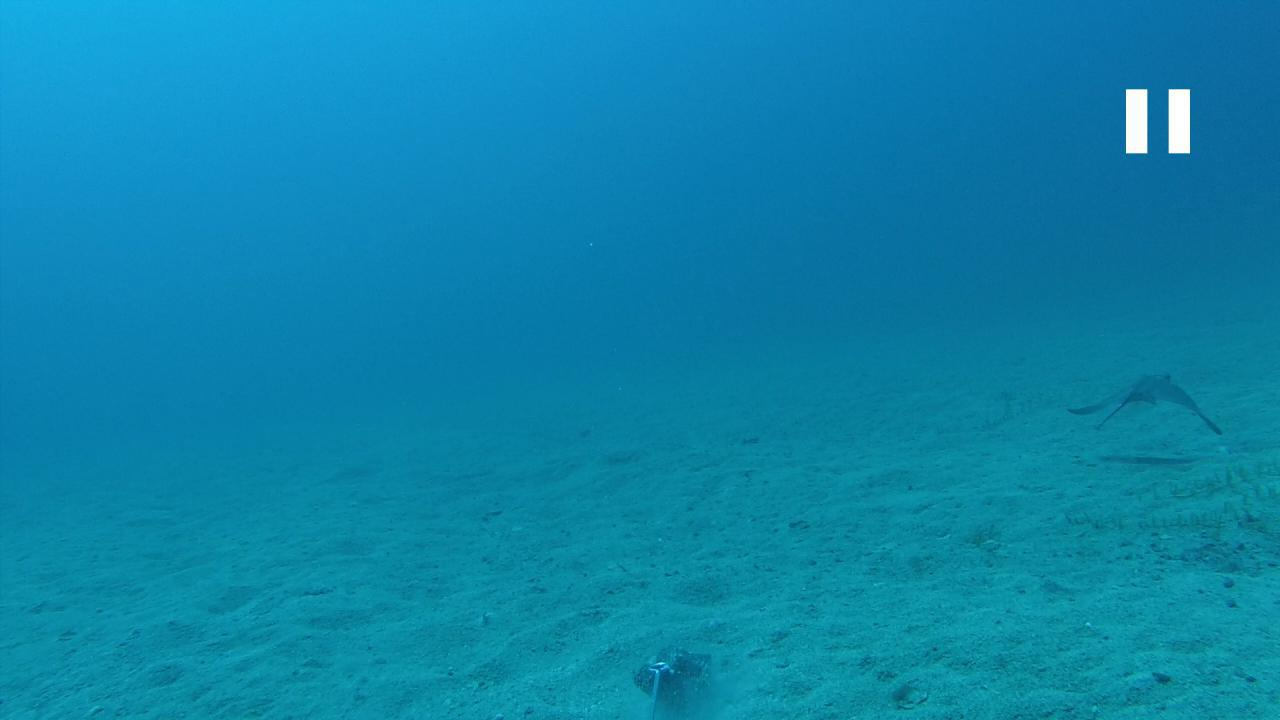dasyatis: (1065, 369, 1223, 435)
